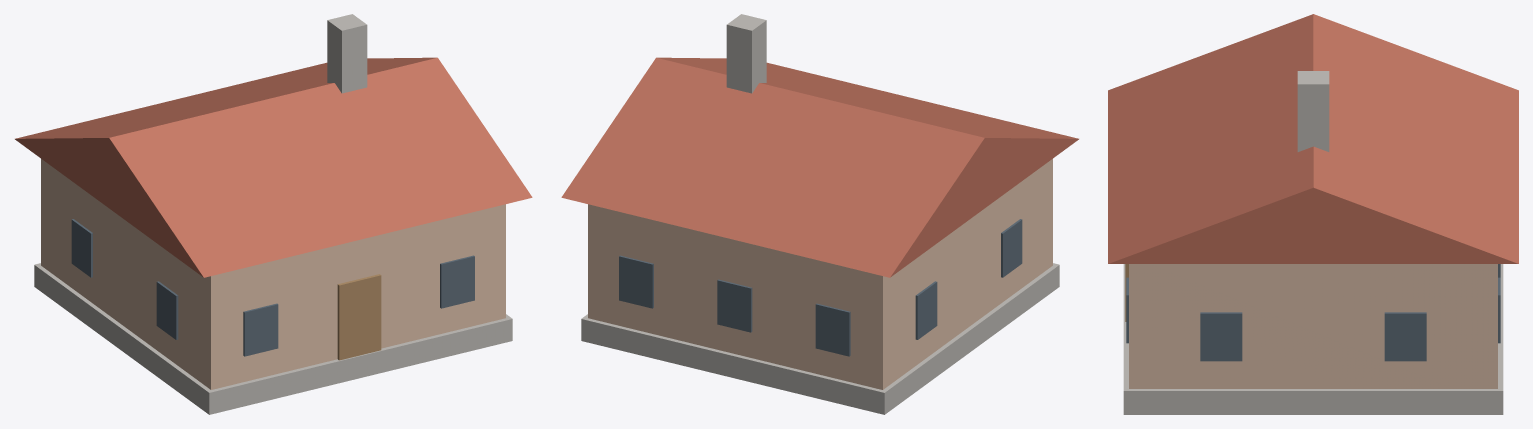
Rendered from house_2.glb.
3 renders of one model, left to right at view 1: azimuth 30°, elevation 25°; view 2: azimuth 150°, elevation 25°; view 3: azimuth 270°, elevation 25°, orthographic. The views are drawn at different scales.
Parts seen in each view (by area): view 1: House.002; view 2: House.002; view 3: House.002.
Part boxes in pixels (box(x1,y1,x2,y2)): House.002: box(15, 14, 532, 414); House.002: box(561, 14, 1078, 414); House.002: box(1108, 14, 1518, 414).
Size of the model in its own units: 7.8 by 6.2 by 7.8.
